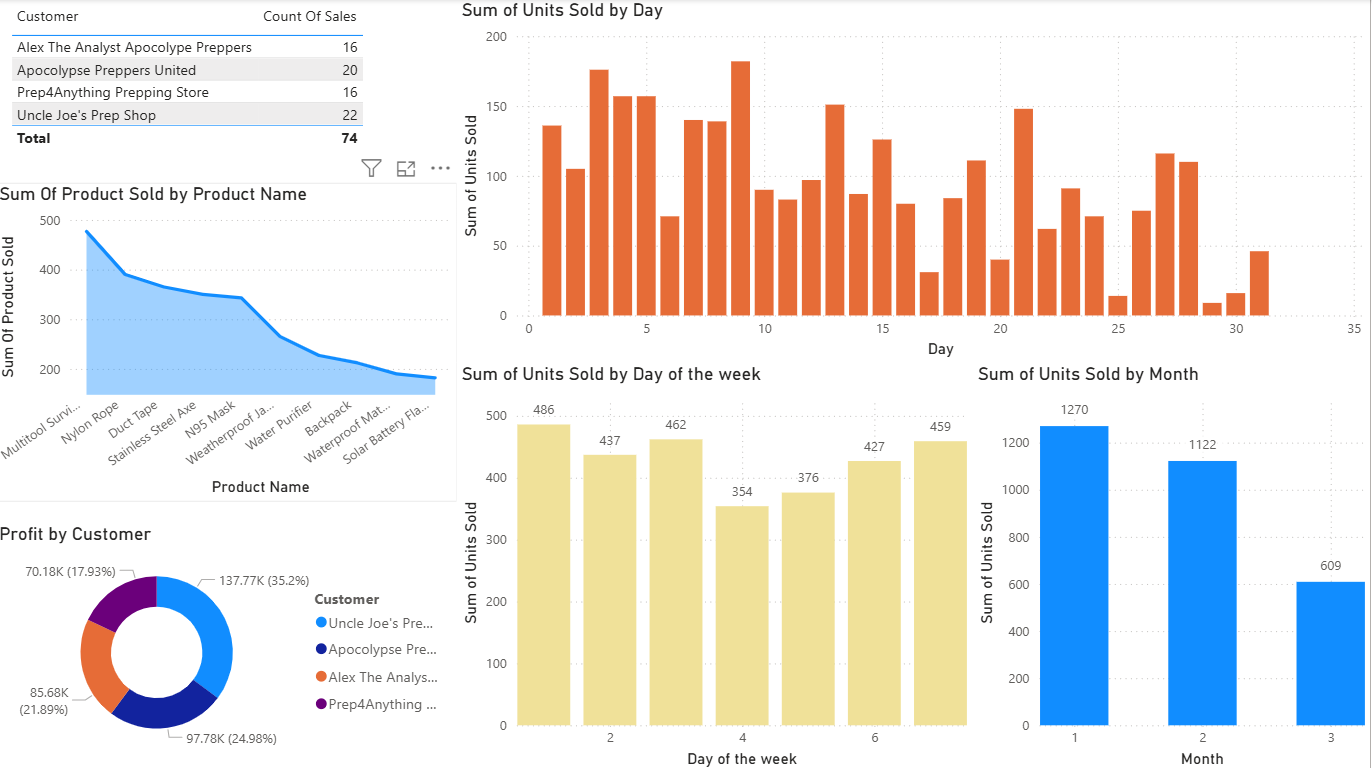

The dashboard page shown, as its layout file describes it:
{"tool":"powerbi","page":{"name":"Page 1","canvas":[1280,720],"ordinal":0},"visuals":[{"type":"tableEx","fields":{"Values":["Apocolypse Sales.Customer","Apocolypse Sales.Count Of Sales"]},"box":[10,0,418.8,203.8],"z":0},{"type":"stackedAreaChart","fields":{"Category":["Apocolypse Store.Product Name"],"Y":["Apocolypse Sales.Sum Of Product Sold"]},"box":[0,171.2,430,296.2],"z":1000},{"type":"donutChart","fields":{"Category":["Apocolypse Sales.Customer"],"Y":["Apocolypse Sales.Profit"]},"box":[0,487.2,429.1,220.9],"z":2000},{"type":"clusteredColumnChart","fields":{"Category":["Apocolypse Sales.Date Purchased.Variation.Date Hierarchy.Day"],"Y":["Apocolypse Sales.Units Sold"]},"box":[430.2,0,850,338.4],"z":3000},{"type":"clusteredColumnChart","fields":{"Y":["Apocolypse Sales.Units Sold"],"Category":["Apocolypse Sales.Day of the week"]},"box":[430,338.8,480,381.2],"z":4000},{"type":"lineStackedColumnComboChart","fields":{"Category":["Apocolypse Sales.Month"],"Y":["Apocolypse Sales.Units Sold"]},"box":[910,338.8,370,381.2],"z":4001}]}

Visuals, with their boxes in screenshot pixels (x1, y1, x2, y2), scaled from the page's 1280x720 canvas onto the 1372x768 screenshot:
tableEx - Apocolypse Sales.Customer x Apocolypse Sales.Count Of Sales: (x1=11, y1=0, x2=460, y2=217)
stackedAreaChart - Apocolypse Store.Product Name x Apocolypse Sales.Sum Of Product Sold: (x1=0, y1=183, x2=461, y2=499)
donutChart - Apocolypse Sales.Customer x Apocolypse Sales.Profit: (x1=0, y1=520, x2=460, y2=755)
clusteredColumnChart - Apocolypse Sales.Date Purchased.Variation.Date Hierarchy.Day x Apocolypse Sales.Units Sold: (x1=461, y1=0, x2=1371, y2=361)
clusteredColumnChart - Apocolypse Sales.Units Sold x Apocolypse Sales.Day of the week: (x1=461, y1=361, x2=975, y2=767)
lineStackedColumnComboChart - Apocolypse Sales.Month x Apocolypse Sales.Units Sold: (x1=975, y1=361, x2=1371, y2=767)
